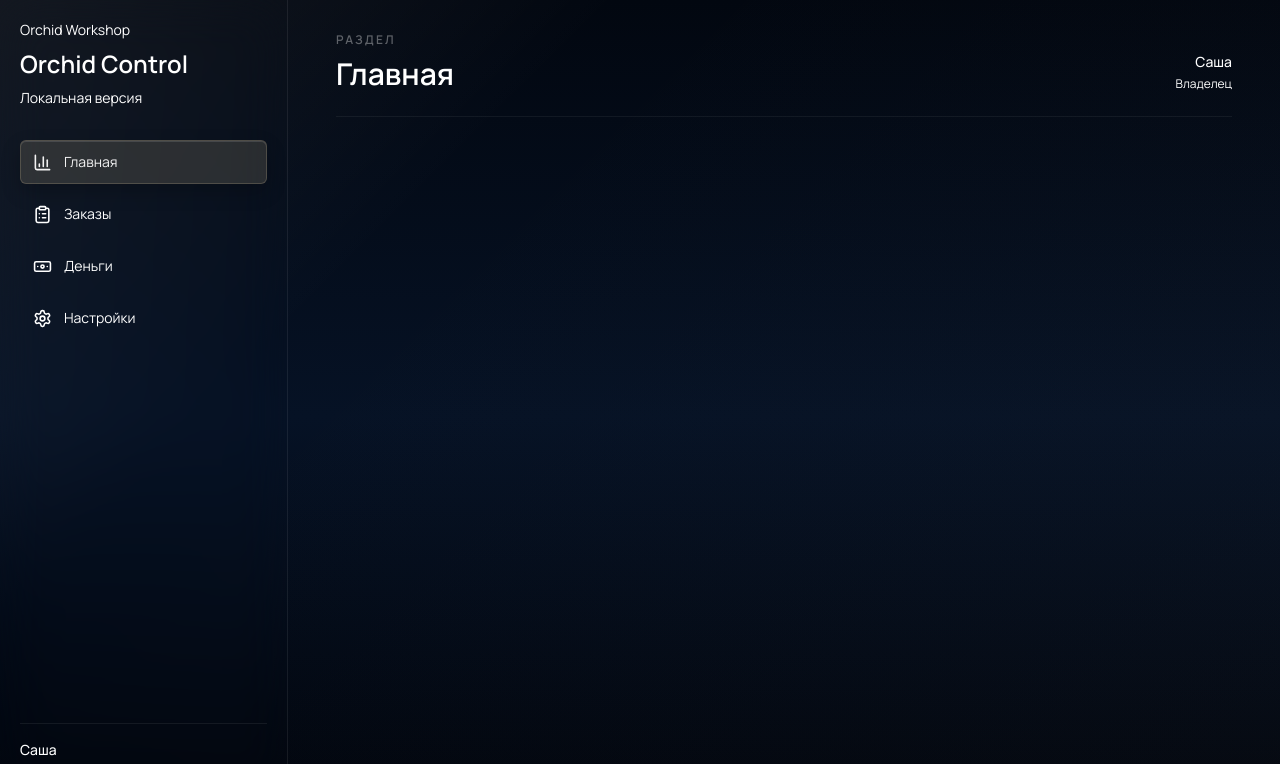
Test: App › returns to login on logout
The width and height of the screenshot is (1280, 764).
Expected: the button labelled "Заказы" is shown, 20,192 -> 267,236
Click the button labelled "Настройки".
click(144, 318)  # box 20,296 -> 267,340
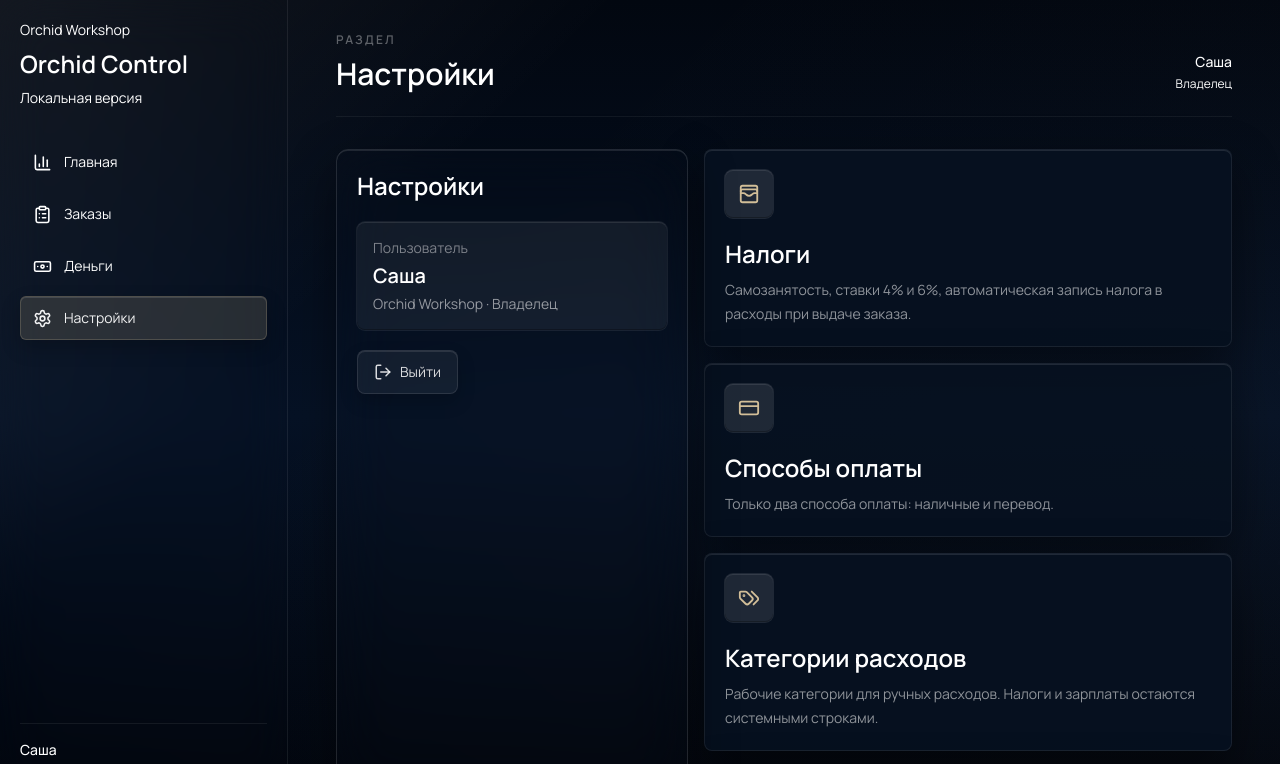
Click the button "Выйти".
click(408, 372)  # box 357,350 -> 458,394
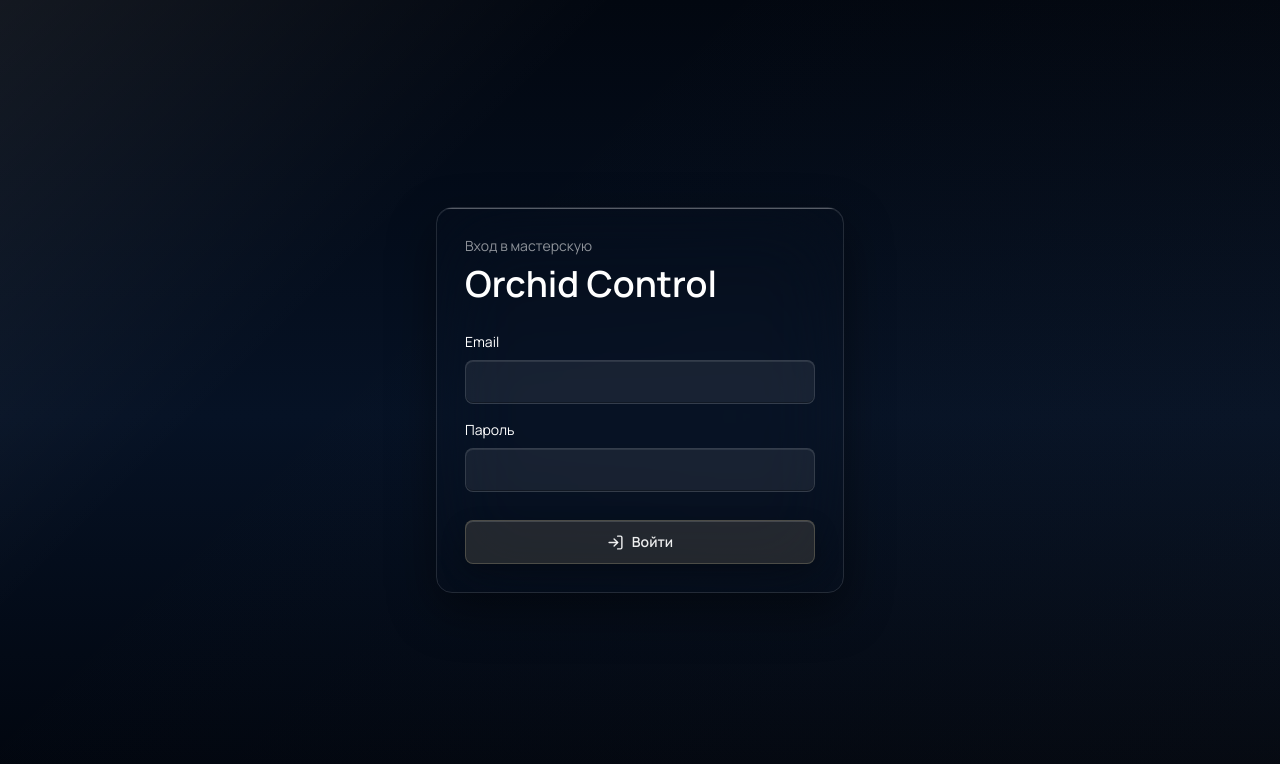
Expected: the button "Войти" is shown, 465,520 -> 815,564
